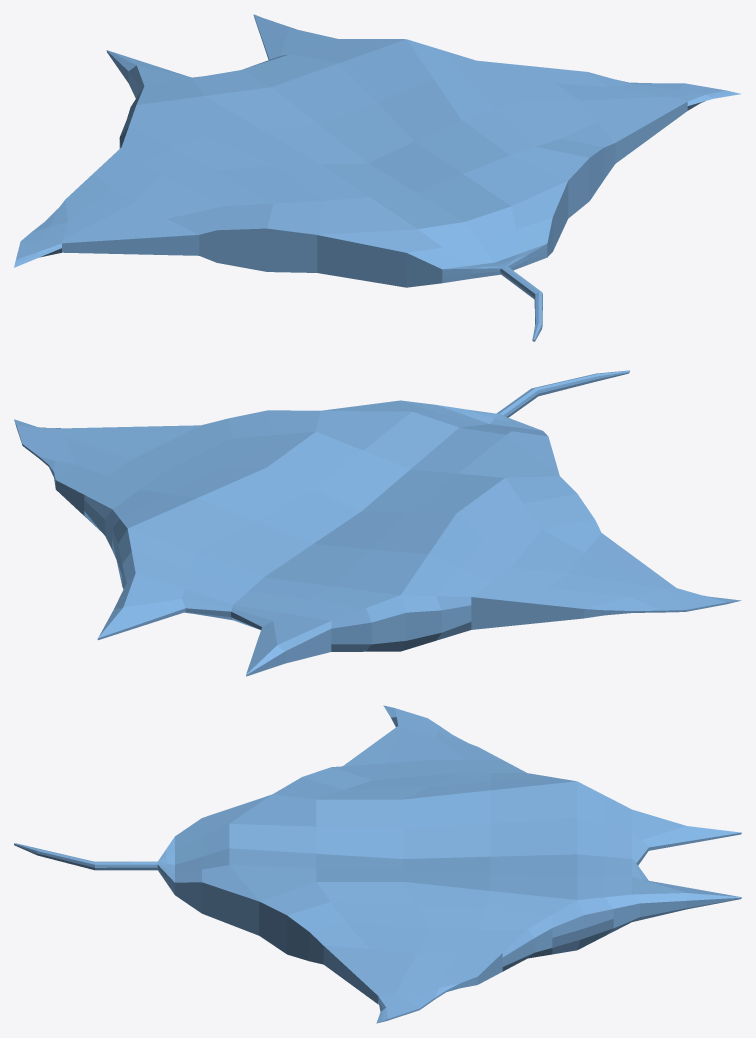
File: mantaray.fbx
The picture shows the model from 3 angles, top to bottom: view 1: azimuth 30°, elevation 25°; view 2: azimuth 150°, elevation 25°; view 3: azimuth 270°, elevation 25°; orthographic projection. The views are drawn at different scales.
Parts seen in each view (by area): view 1: mantaray; view 2: mantaray; view 3: mantaray.
Boxes of the visible parts, x1,y1,x2,y2 form: mantaray: (14, 14, 740, 341); mantaray: (14, 370, 741, 676); mantaray: (14, 705, 741, 1023).
Size of the model in its own units: 2036 by 168 by 1967.
